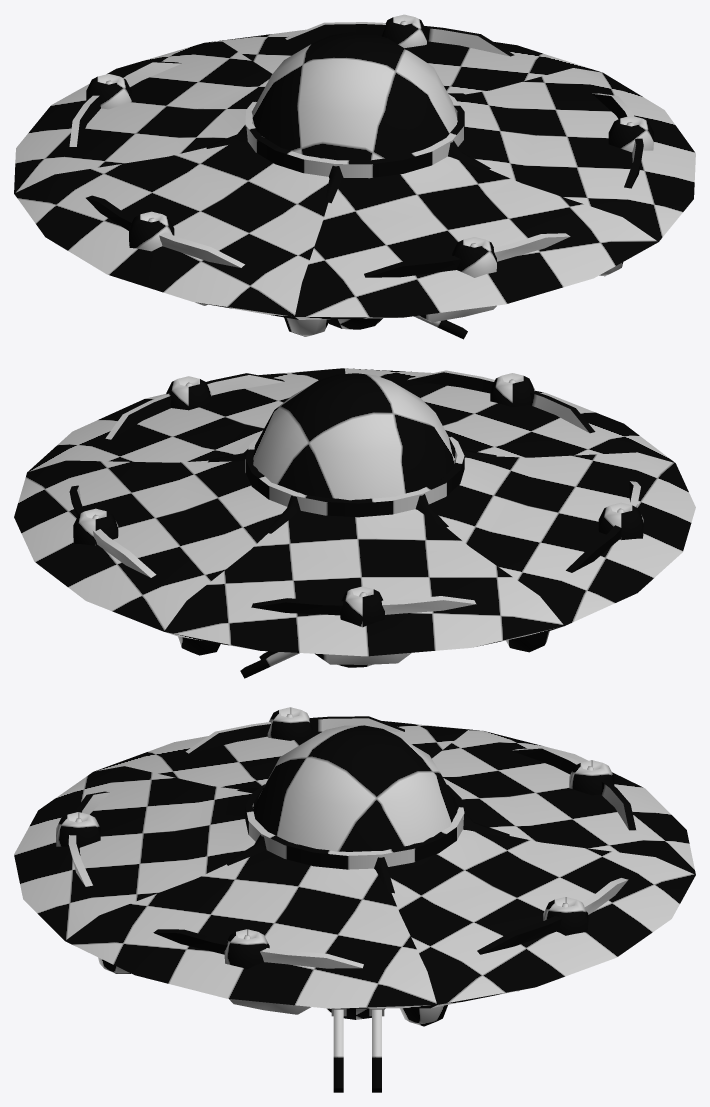
Rendered from ufo.obj.
3 views of the same model, one above another, from view 1: azimuth 30°, elevation 25°; view 2: azimuth 150°, elevation 25°; view 3: azimuth 270°, elevation 25° (orthographic).
Parts seen in each view (by area): view 1: ufo001; view 2: ufo001; view 3: ufo001.
Part boxes in pixels (x1=…): ufo001: x1=14, y1=14, x2=695, y2=339; ufo001: x1=14, y1=368, x2=695, y2=678; ufo001: x1=14, y1=707, x2=695, y2=1092.
Size of the model in its own units: 108 by 54.42 by 108.
1 material, 1 textured.
